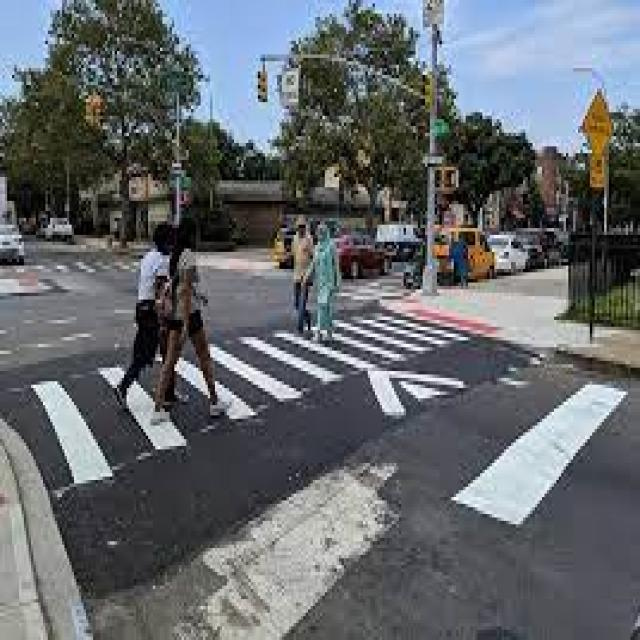Crosswalk: (29, 303, 474, 490)
